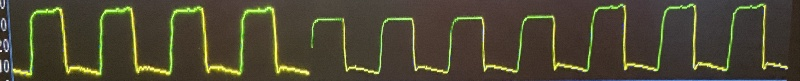normal_pressure: (11, 3, 800, 81)
